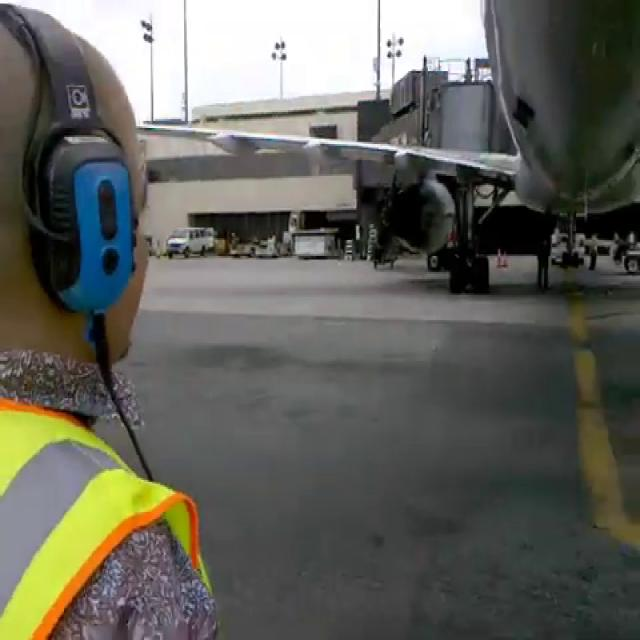earmuff: (29, 108, 135, 329)
